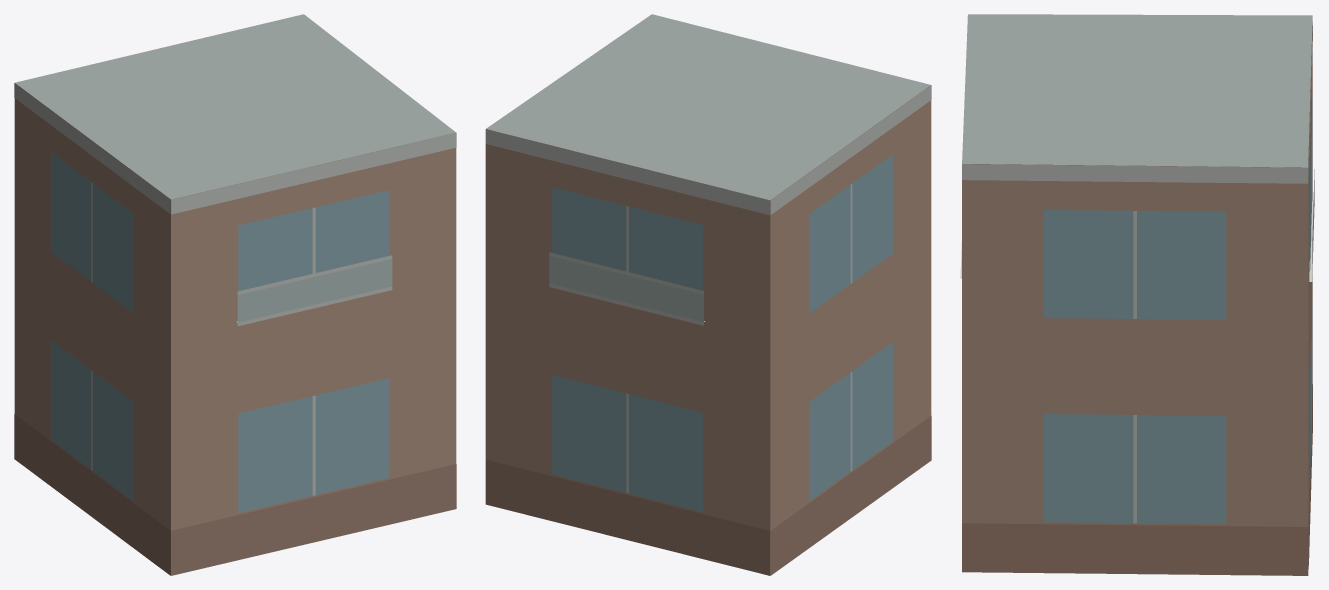
The model's file is survey-upis-32607816.glb.
3 views of the same model, side by side, from view 1: azimuth 30°, elevation 25°; view 2: azimuth 150°, elevation 25°; view 3: azimuth 270°, elevation 25° (orthographic). The views are drawn at different scales.
Visible parts, largest first — view 1: survey-upis-32607816.tmp; view 2: survey-upis-32607816.tmp; view 3: survey-upis-32607816.tmp.
Boxes of the visible parts, <box> form: survey-upis-32607816.tmp: <box>14,14,456,575</box>; survey-upis-32607816.tmp: <box>485,14,931,575</box>; survey-upis-32607816.tmp: <box>960,14,1314,575</box>.
Size of the model in its own units: 4.93 by 6.1 by 4.8.
